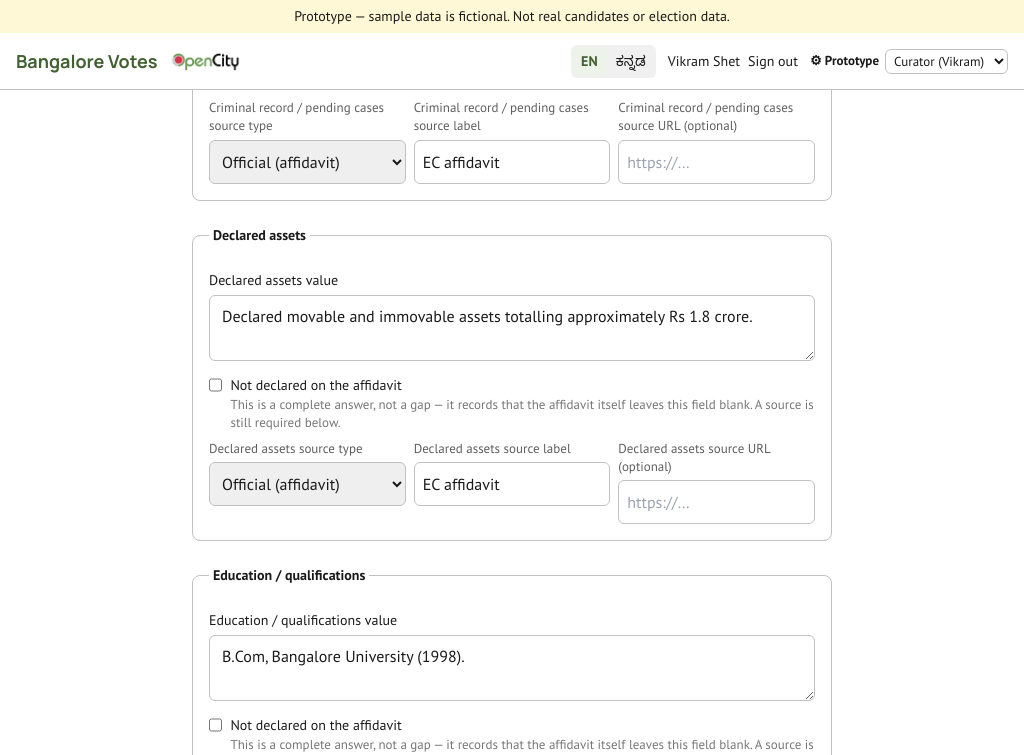
Test: curator can mark a field "not declared" — publishes with an empty value and the marker, still sourced
(page scrolled)
Click the 1st checkbox labelled "Not declared on the affidavit" at (216, 385), box [209,377,222,393]
(page scrolled)
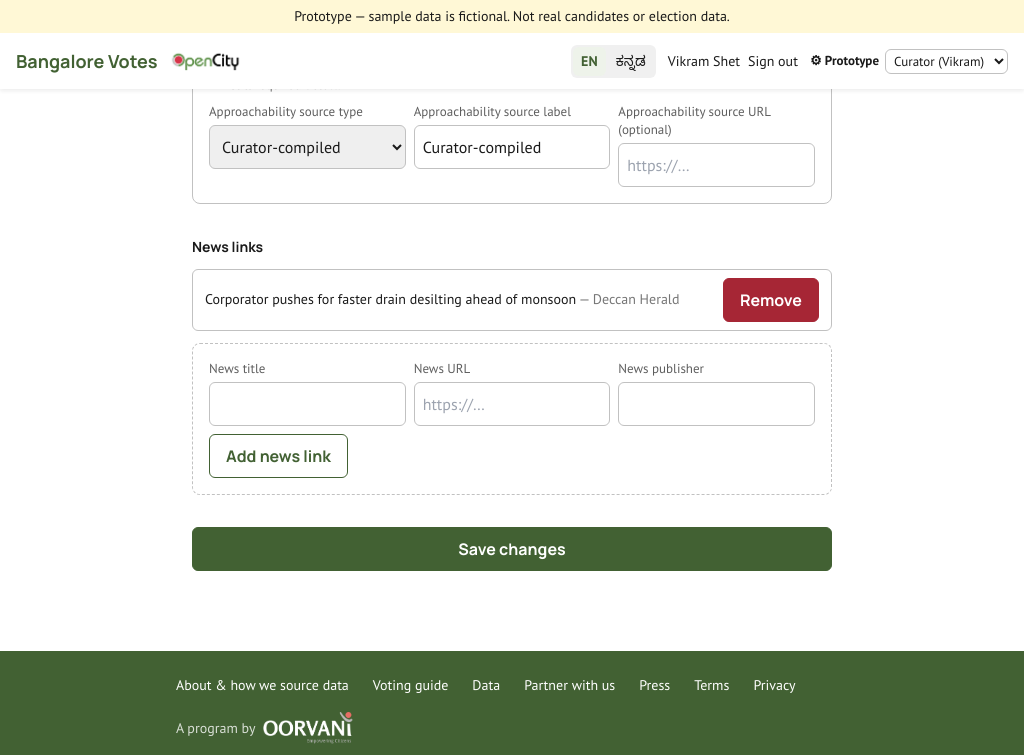
Click the button "Save changes" at (512, 549), box [192,527,832,571]
(page scrolled)
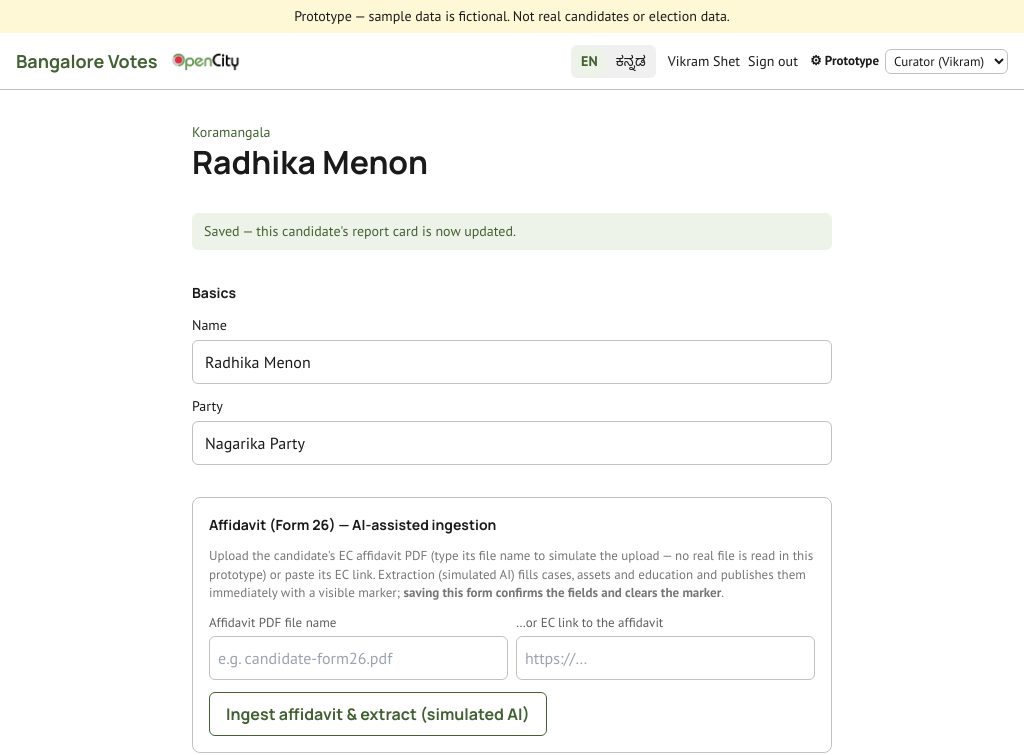
Check: the text "Saved — this candidate's report card is now updated." is shown, box [192,213,832,250]
